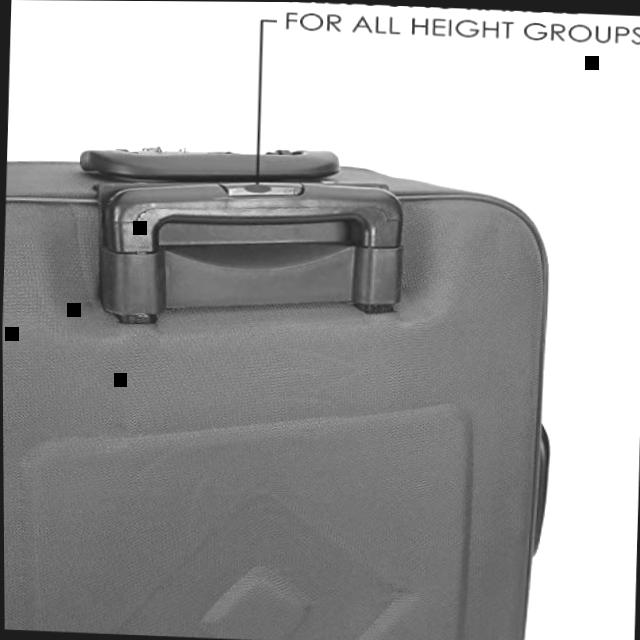luggage: (1, 119, 584, 640)
